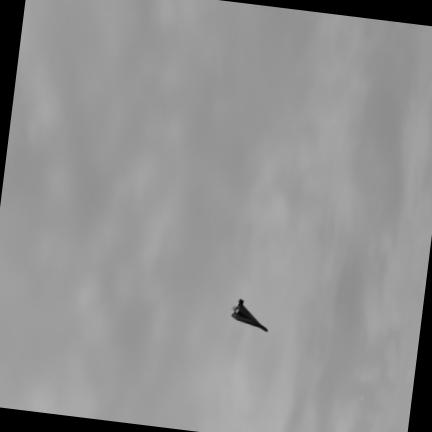Shahed: (231, 299, 267, 330)
